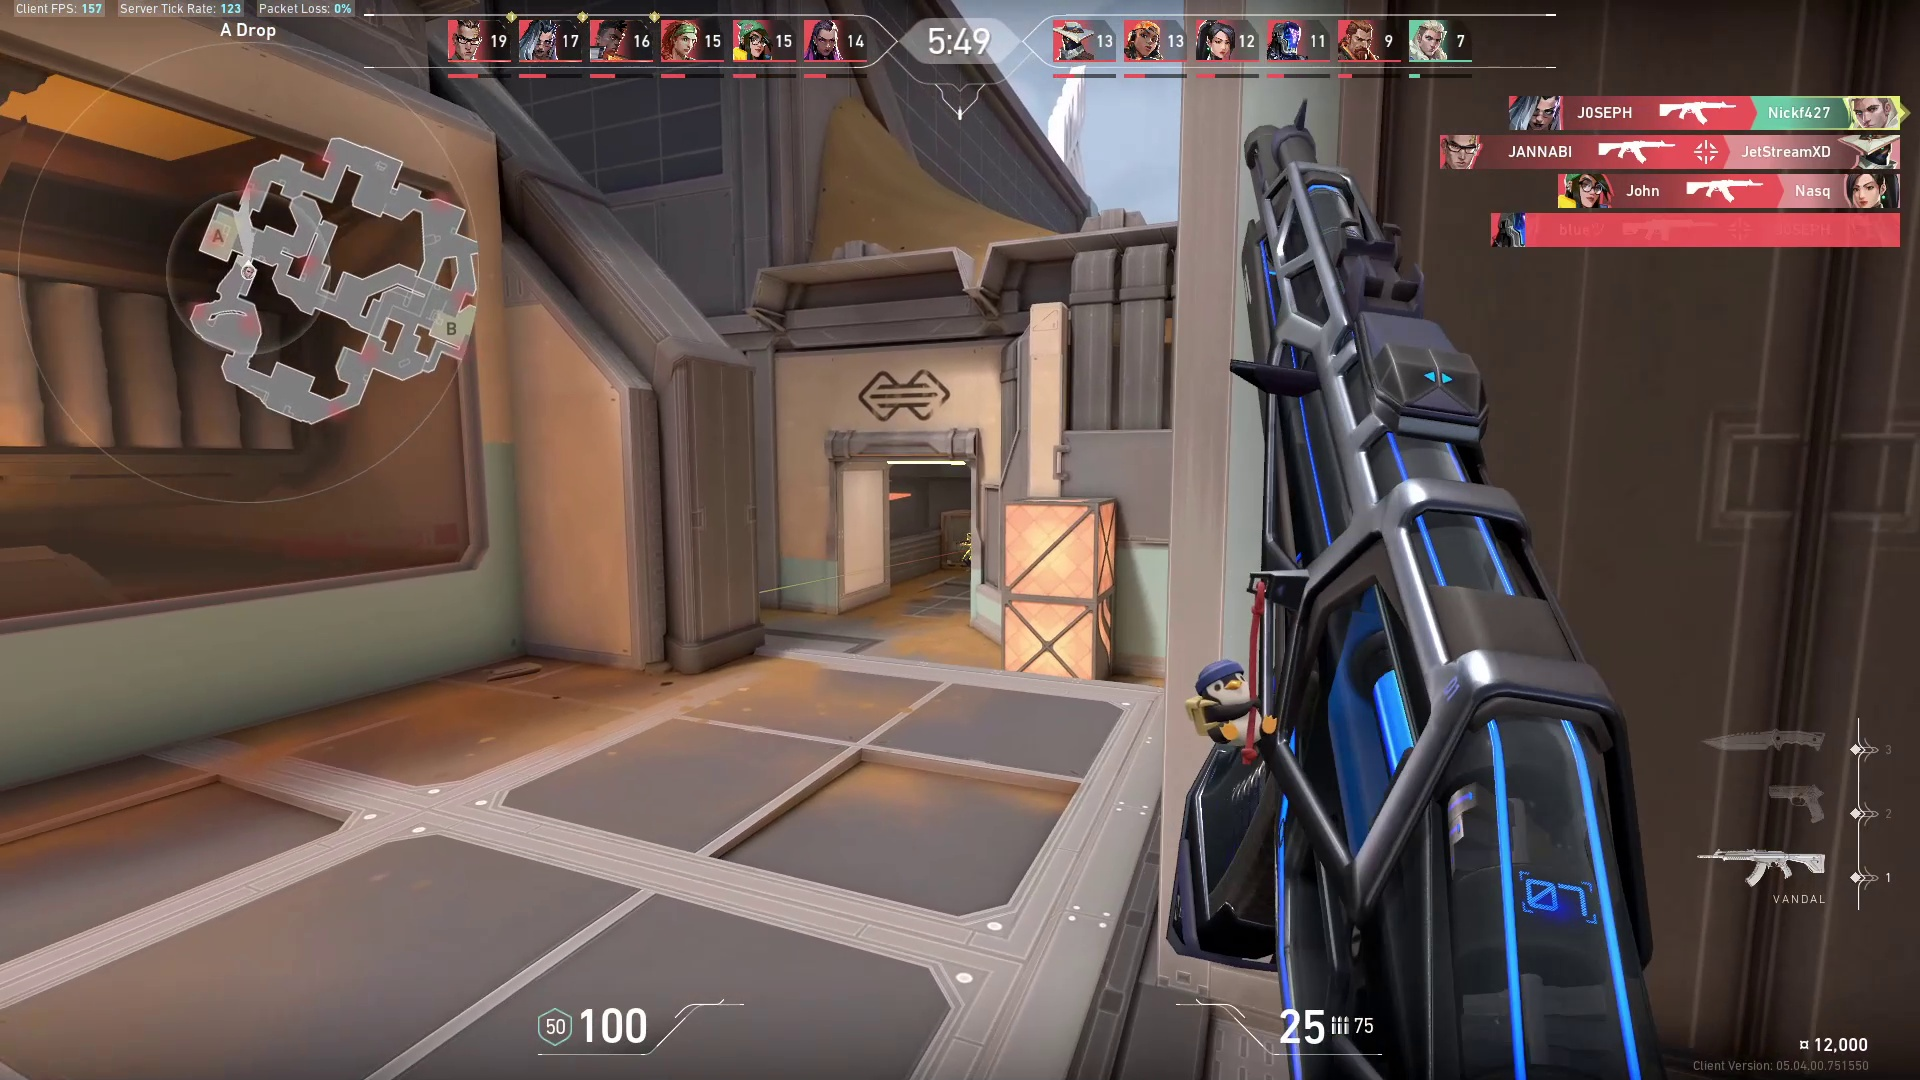enemy_body: (957, 541, 972, 568)
enemy_head: (964, 531, 972, 541)
